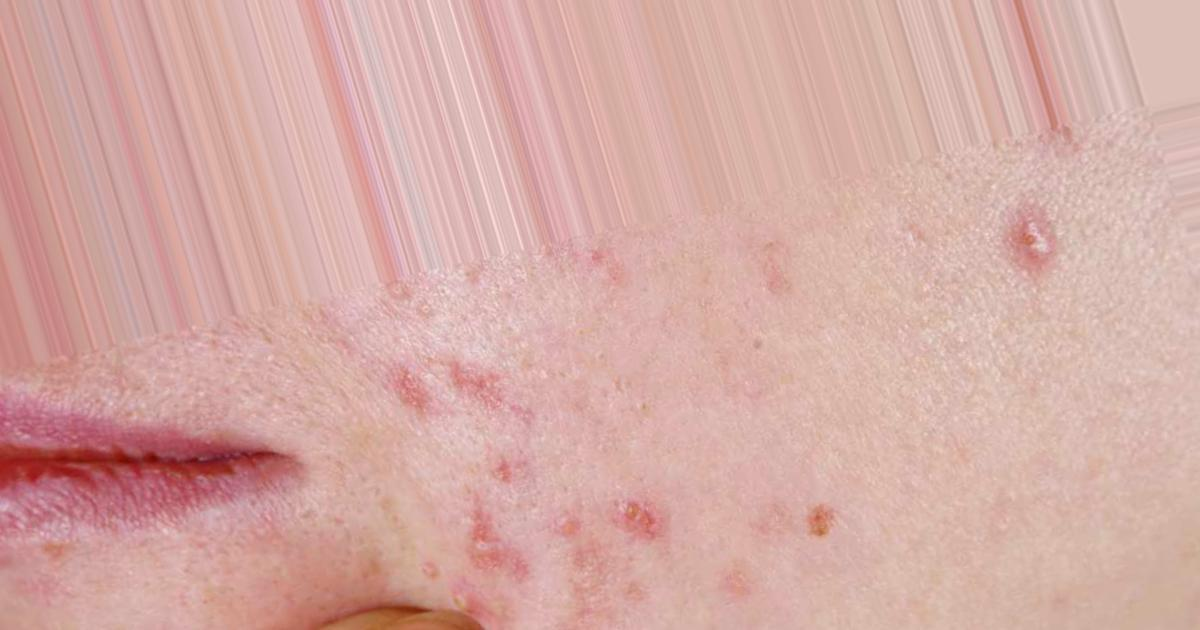Acne: (366, 356, 704, 595), (1001, 189, 1072, 286), (779, 490, 859, 547)
